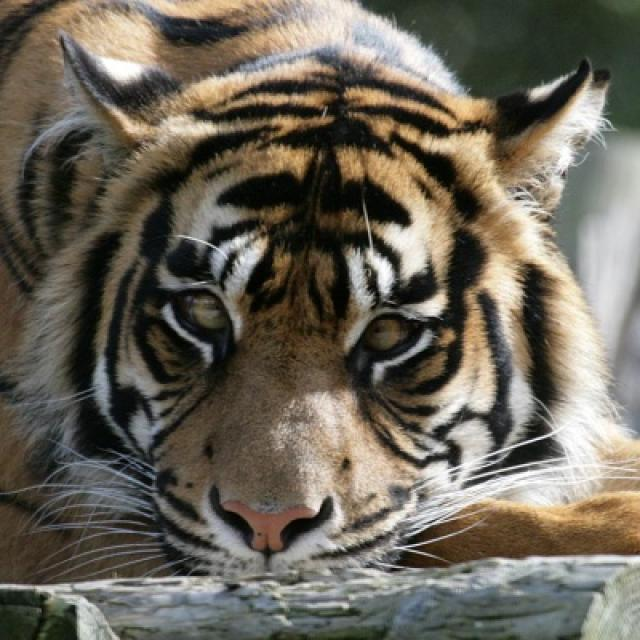Tiger: (0, 0, 638, 581)
